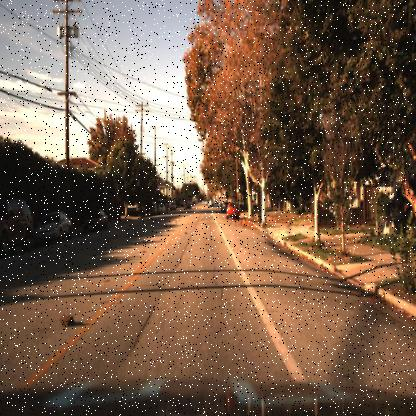car: (1, 197, 35, 257), (32, 202, 74, 250), (30, 209, 78, 244), (82, 206, 111, 233), (81, 208, 104, 235), (224, 200, 239, 222), (226, 202, 244, 220), (146, 201, 156, 221), (182, 197, 192, 213), (160, 201, 168, 215), (208, 197, 219, 207), (156, 202, 162, 218), (221, 201, 229, 213)
